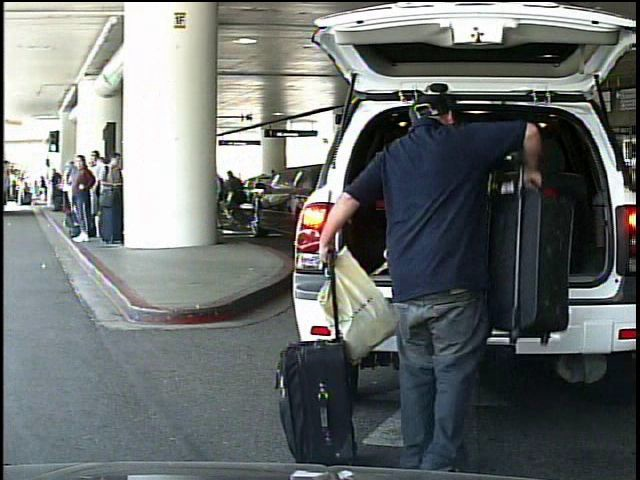person: (319, 88, 542, 473), (226, 167, 248, 234), (215, 163, 229, 229), (37, 173, 48, 202), (18, 176, 28, 206)
